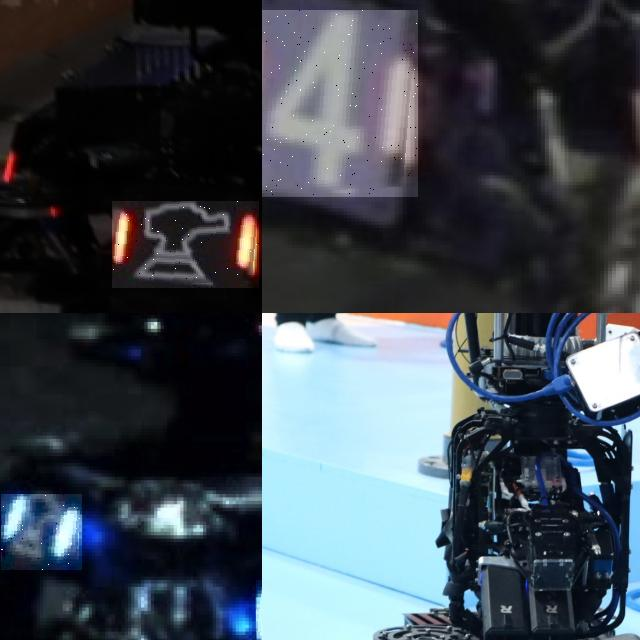Bs: (1, 494, 82, 570)
R4: (262, 10, 418, 198)
Rs: (112, 201, 259, 288)
